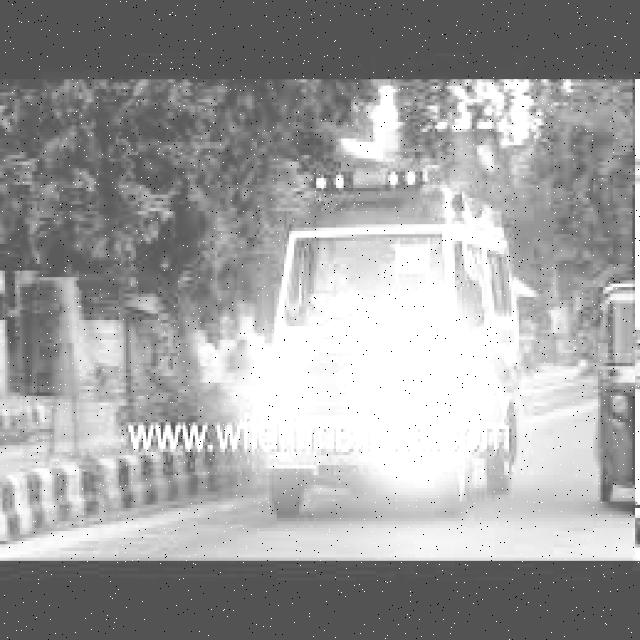Ambulance: (268, 142, 525, 528)
